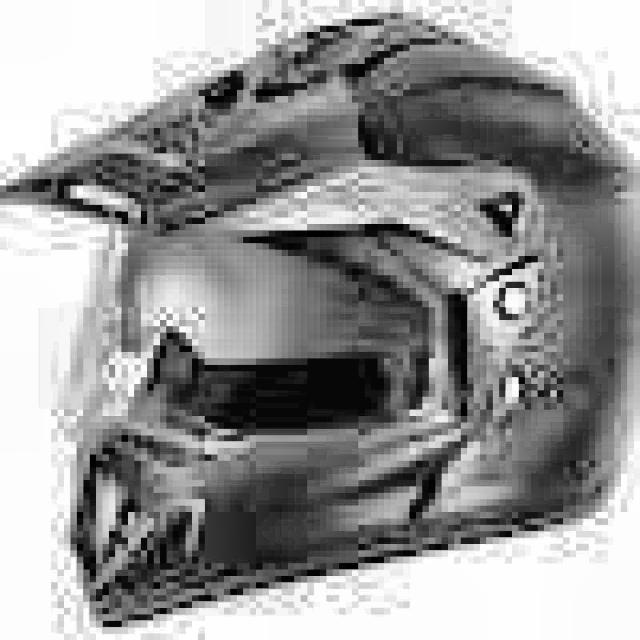Helmet: (11, 4, 640, 634)
